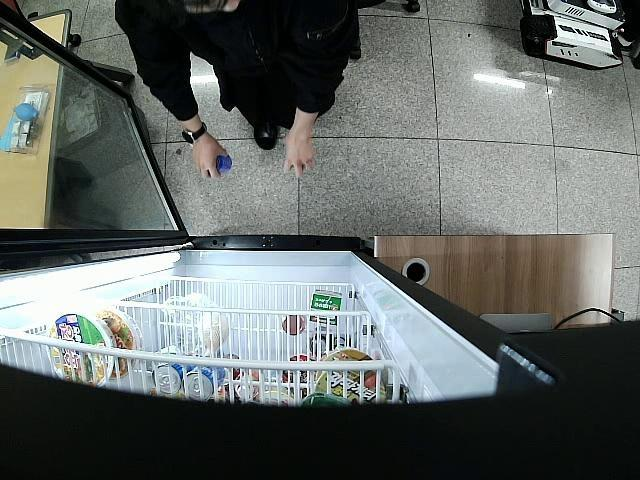13_pocariSweat: (209, 151, 235, 175)
